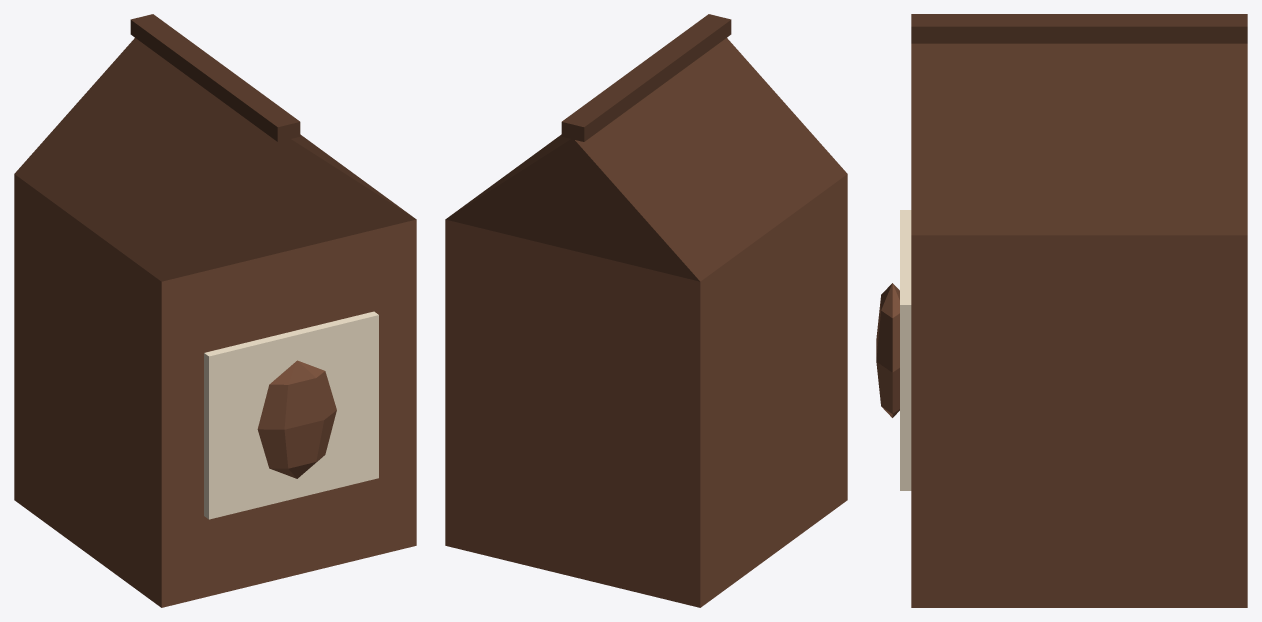
The model's file is Food_ChocoMilk.obj.
3 views of the same model, side by side, from view 1: azimuth 30°, elevation 25°; view 2: azimuth 150°, elevation 25°; view 3: azimuth 270°, elevation 25° (orthographic). The views are drawn at different scales.
Size of the model in its own units: 0.9 by 1.52 by 0.9933.
